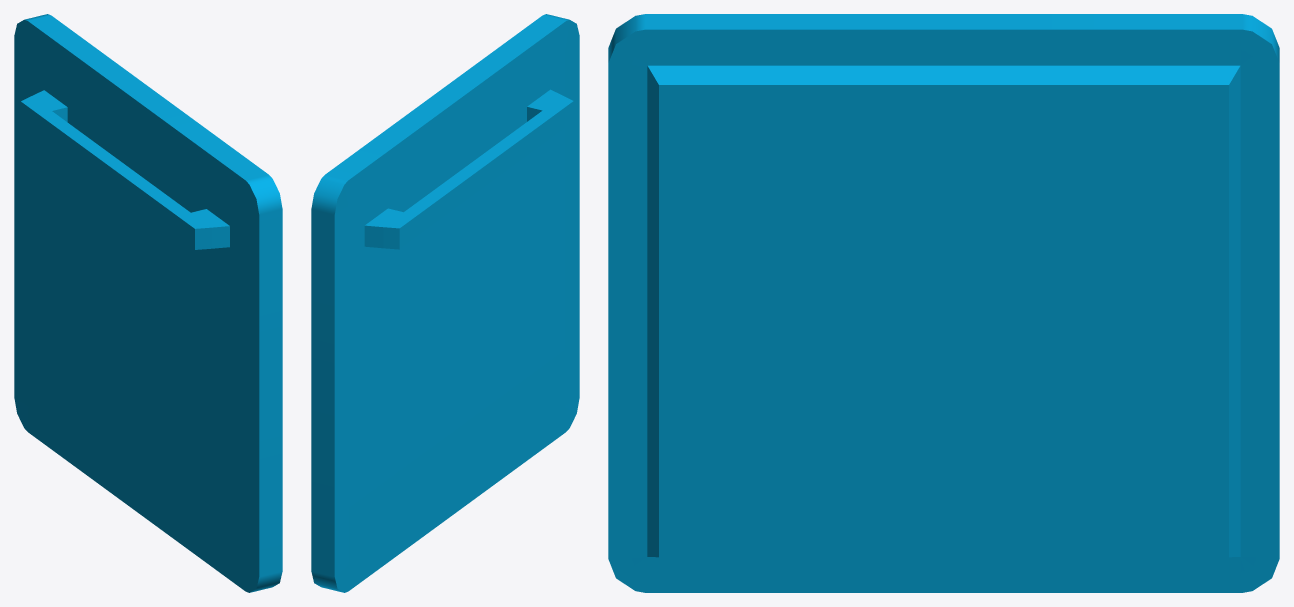
File: Restaurant_Gas_Stove_Door_Lod1.fbx
The picture shows the model from 3 angles, left to right: view 1: azimuth 30°, elevation 25°; view 2: azimuth 150°, elevation 25°; view 3: azimuth 270°, elevation 25°; orthographic projection. The views are drawn at different scales.
Visible parts, largest first — view 1: Restaurant_Gas_Stove_Door_Lod1; view 2: Restaurant_Gas_Stove_Door_Lod1; view 3: Restaurant_Gas_Stove_Door_Lod1.
Boxes of the visible parts, bbox=[...] form: Restaurant_Gas_Stove_Door_Lod1: bbox=[14, 14, 282, 592]; Restaurant_Gas_Stove_Door_Lod1: bbox=[311, 14, 579, 592]; Restaurant_Gas_Stove_Door_Lod1: bbox=[608, 14, 1279, 592].
Bounding box in the file's own units: 8.53 × 49.79 × 53.76.
